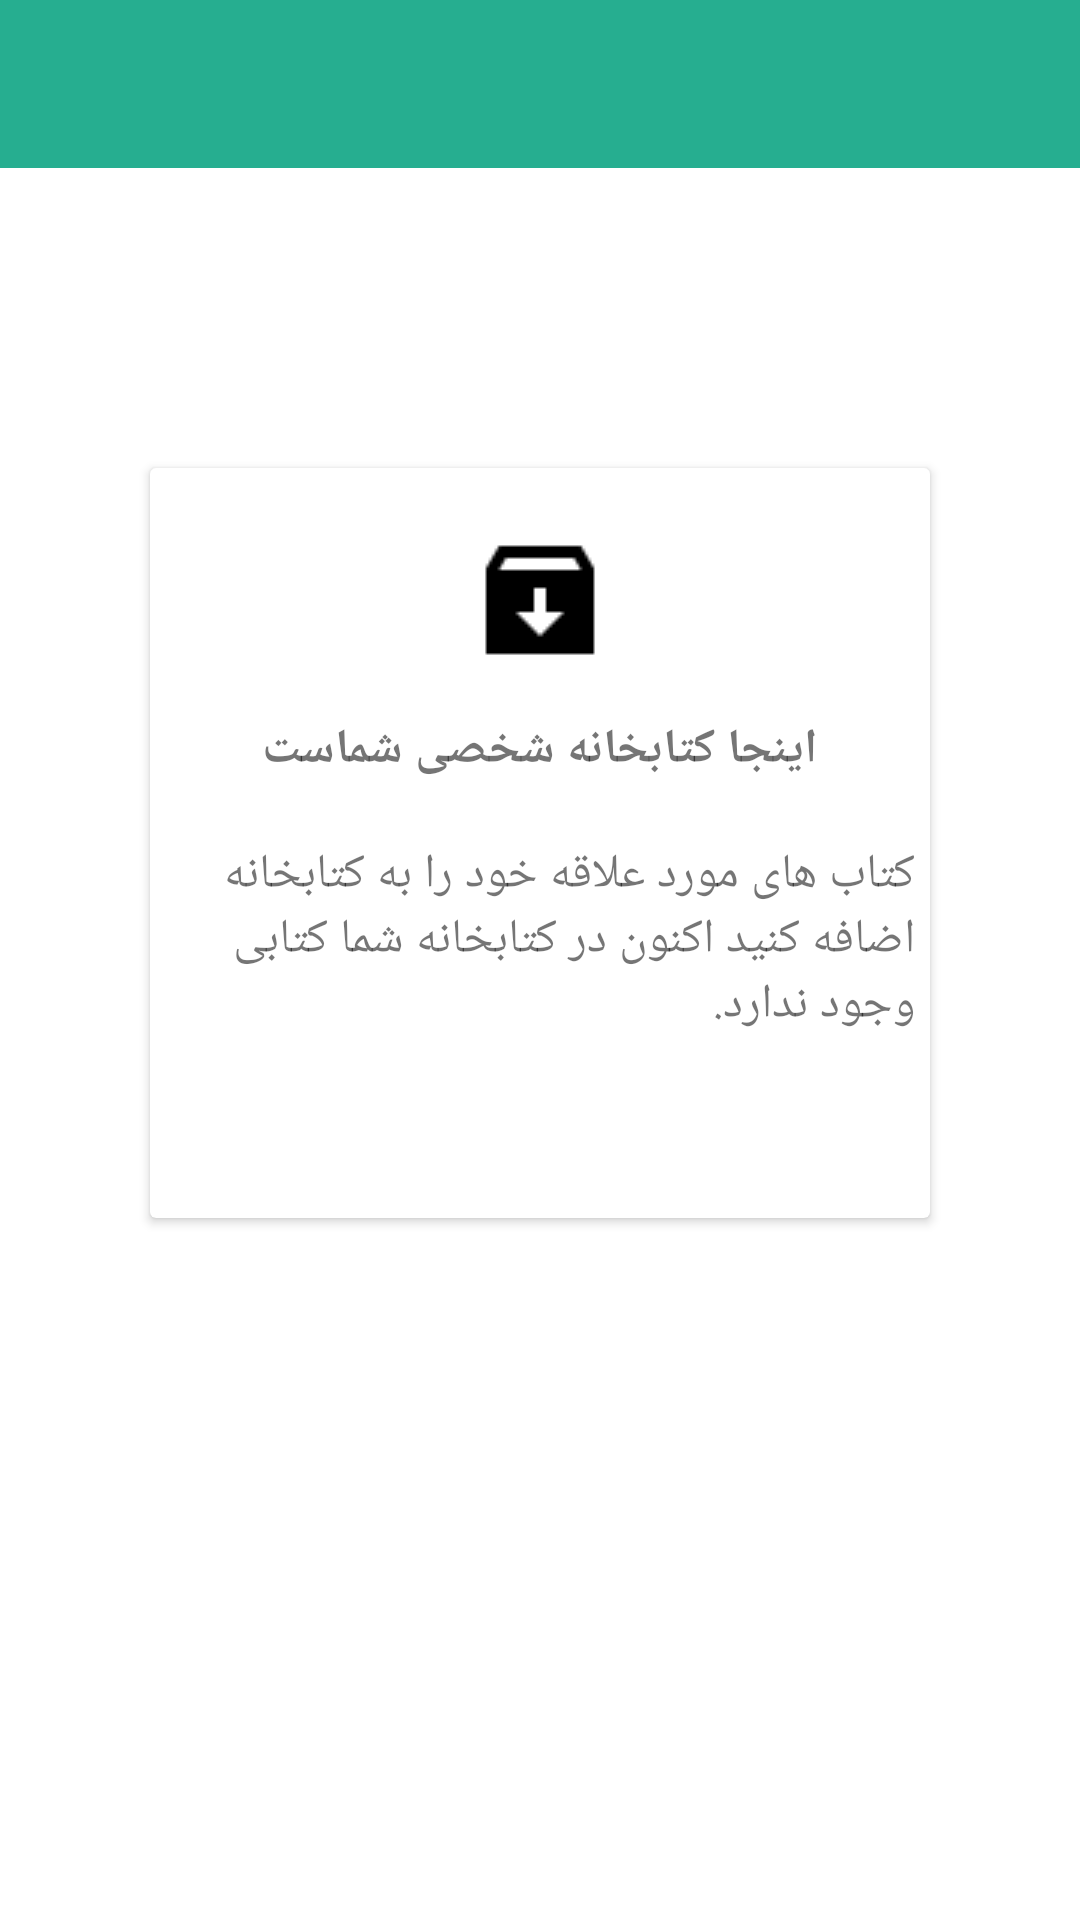

Where to tap for icons on this 1080px x 1920px app screen, as point (x, y):
downloads: point (540, 600)
